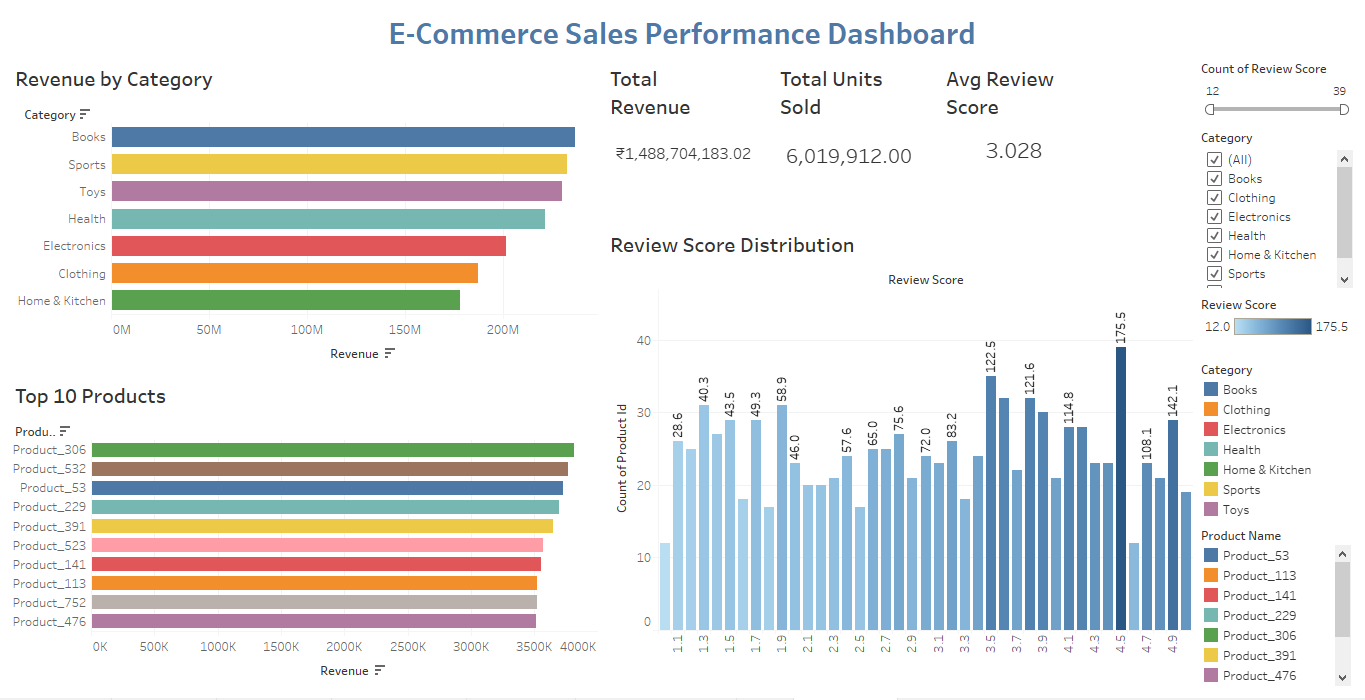

The dashboard page shown, as its layout file describes it:
{"tool":"tableau","page":{"name":"Dashboard 1","canvas":[1000,1000],"units":"permille","ordinal":0},"visuals":[{"type":"title","box":[6.1,14.3,987.9,85.7]},{"type":"worksheet","title":"Revenue by Category","mark":"Automatic","rows":["category"],"cols":["revenue"],"box":[6.1,100,433.3,442.8]},{"type":"worksheet","title":"TOTAL REVENUE","mark":"Automatic","box":[439.4,100,123.5,232.1]},{"type":"worksheet","title":"Total Units Sold","mark":"Automatic","box":[562.9,100,121.2,232.1]},{"type":"worksheet","title":"Avg Review Score","mark":"Automatic","box":[684.1,100,188.7,232.1]},{"type":"filter","title":"Review Score Distribution","param":"[federated.0shzsy71ro6sic19tdtl105yu9fq].[cnt:review_score:qk]","box":[872.7,100,121.2,123.2]},{"type":"filter","title":"Review Score Distribution","param":"[federated.0shzsy71ro6sic19tdtl105yu9fq].[none:category:nk]","box":[872.7,223.2,121.2,215.5]},{"type":"worksheet","title":"Review Score Distribution","mark":"Automatic","rows":["product_id"],"cols":["review_score"],"box":[439.4,332.1,433.4,653.6]},{"type":"legend","title":"Review Score Distribution","param":"[federated.0shzsy71ro6sic19tdtl105yu9fq].[sum:review_score:qk]","box":[872.7,438.7,121.2,116.1]},{"type":"worksheet","title":"Top 10 Products","mark":"Automatic","rows":["product_name"],"cols":["revenue"],"box":[6.1,542.8,433.3,442.9]},{"type":"legend","title":"Revenue by Category","param":"[federated.0shzsy71ro6sic19tdtl105yu9fq].[none:category:nk]","box":[872.7,554.8,121.2,215.5]},{"type":"legend","title":"Top 10 Products","param":"[federated.0shzsy71ro6sic19tdtl105yu9fq].[none:product_name:nk]","box":[872.7,770.2,121.2,215.5]}]}

Visuals, with their boxes on the dashboard's canvas, which has no fixed pixel size, in thousandths of its width and height (x1, y1, x2, y2). These are canvas units, not pixel positions in the 1365x700 screenshot, which may show the page scaled, cropped or inside an application window:
title: 6, 14, 994, 100
"Revenue by Category" worksheet: 6, 100, 439, 543
"TOTAL REVENUE" worksheet: 439, 100, 563, 332
"Total Units Sold" worksheet: 563, 100, 684, 332
"Avg Review Score" worksheet: 684, 100, 873, 332
"Review Score Distribution" filter: 873, 100, 994, 223
"Review Score Distribution" filter: 873, 223, 994, 439
"Review Score Distribution" worksheet: 439, 332, 873, 986
"Review Score Distribution" legend: 873, 439, 994, 555
"Top 10 Products" worksheet: 6, 543, 439, 986
"Revenue by Category" legend: 873, 555, 994, 770
"Top 10 Products" legend: 873, 770, 994, 986
